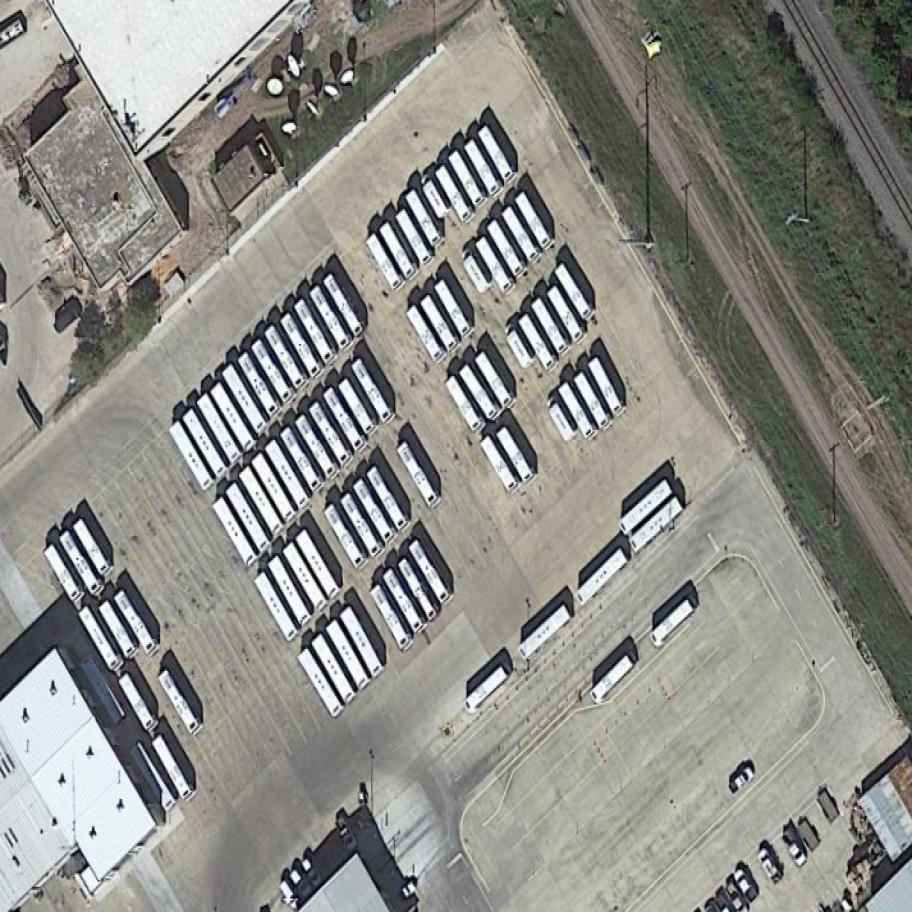large-vehicle: (208, 496, 261, 572), (223, 480, 274, 556), (195, 392, 246, 467), (127, 742, 179, 815), (624, 495, 686, 556), (249, 452, 300, 526), (237, 465, 288, 539), (220, 363, 271, 437), (294, 527, 344, 602), (336, 491, 387, 564), (112, 588, 163, 661), (295, 647, 346, 720), (207, 381, 258, 454), (266, 555, 316, 629), (57, 529, 109, 600), (180, 408, 231, 480), (571, 548, 631, 609), (149, 733, 199, 806), (78, 654, 128, 727), (310, 633, 360, 706), (406, 538, 457, 609), (306, 400, 356, 472), (264, 440, 314, 512), (76, 605, 126, 677), (615, 479, 676, 538), (252, 571, 301, 644), (167, 421, 216, 494), (321, 504, 371, 575), (281, 543, 331, 614), (350, 356, 399, 428), (293, 412, 342, 484), (324, 619, 373, 691), (368, 583, 417, 655), (380, 566, 429, 638), (514, 605, 574, 663), (157, 669, 206, 740), (337, 607, 386, 678), (364, 465, 414, 534), (321, 386, 371, 455), (236, 351, 285, 421), (276, 425, 325, 495), (249, 339, 298, 408), (395, 441, 442, 512), (263, 324, 310, 394), (351, 479, 399, 547), (308, 284, 354, 354), (291, 297, 337, 366), (279, 312, 325, 381), (96, 598, 143, 663), (403, 302, 450, 366), (321, 273, 366, 339), (585, 652, 639, 707), (396, 557, 441, 622), (116, 673, 162, 736), (336, 378, 381, 441), (42, 542, 87, 605), (473, 236, 518, 299), (543, 283, 587, 347), (456, 362, 502, 423), (363, 232, 407, 295), (478, 435, 522, 497), (485, 218, 529, 280), (433, 163, 476, 226), (432, 278, 475, 341), (515, 312, 559, 373), (492, 425, 536, 486), (474, 123, 518, 184), (418, 293, 462, 354), (72, 518, 115, 580), (460, 664, 511, 716), (646, 597, 698, 648), (377, 219, 419, 282), (461, 138, 504, 199), (513, 190, 556, 251), (403, 187, 445, 249), (500, 206, 543, 266), (556, 381, 598, 442), (393, 207, 435, 268), (473, 351, 516, 410), (570, 371, 612, 431), (443, 374, 485, 434), (528, 297, 570, 356), (553, 262, 594, 322), (446, 150, 487, 209), (586, 356, 625, 417)
small-vehicle: (541, 393, 580, 444), (500, 320, 536, 371), (458, 248, 494, 293), (49, 297, 88, 336), (778, 829, 812, 870), (753, 846, 787, 887), (333, 813, 363, 853), (726, 764, 759, 796), (733, 868, 761, 904), (287, 868, 315, 900), (299, 855, 326, 888)
